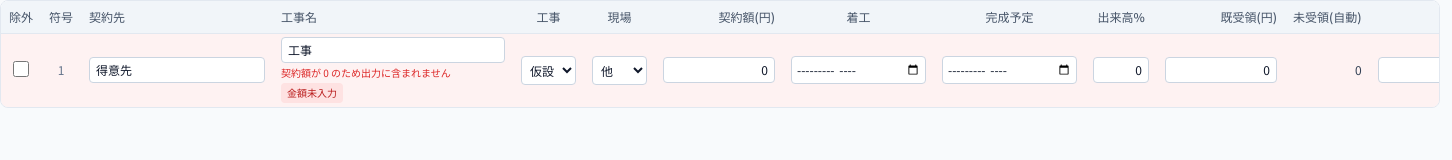
Test: LinesTable: 契約額の入力 › 契約額 0 の行に金額を打つと行の値が更新され、赤の注意が消える
This screenshot has width=1452, height=160.
Expected: the text "契約額が 0 のため出力に含まれません" is shown, [281,65,451,80]
Click the field named "契約額" at (719, 70), box [663,57,775,83]
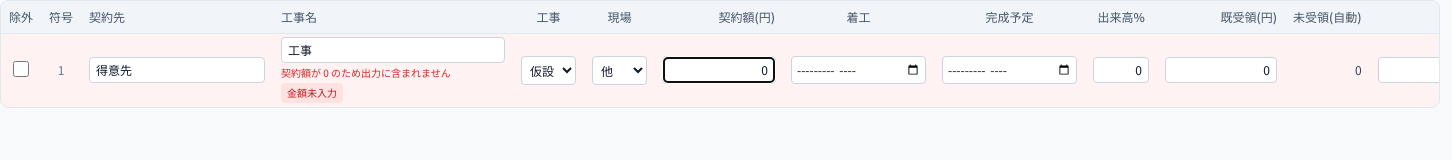
Type keys "500000"
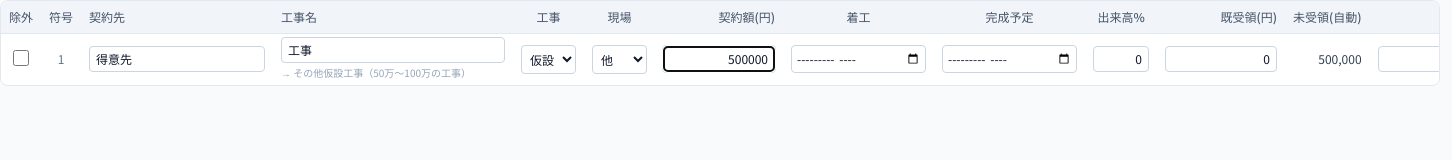
Result: the field named "契約額" holds "500000" at [663,46,775,72]
Press Tab
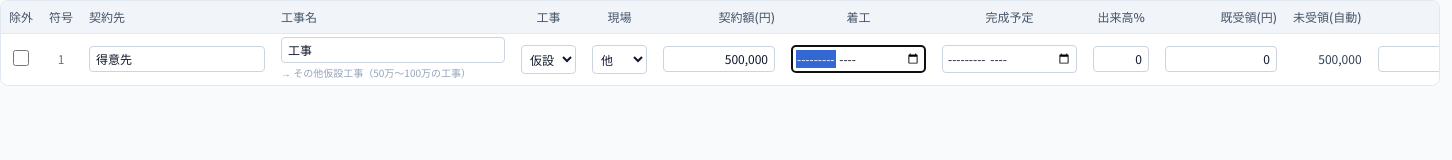
Expected: the text "契約額が 0 のため出力に含まれません" is not shown
Result: the text "→ その他仮設工事（50万～100万の工事）" is shown at [281,65,471,80]
Result: the field named "契約額" holds "500,000" at [663,46,775,72]
